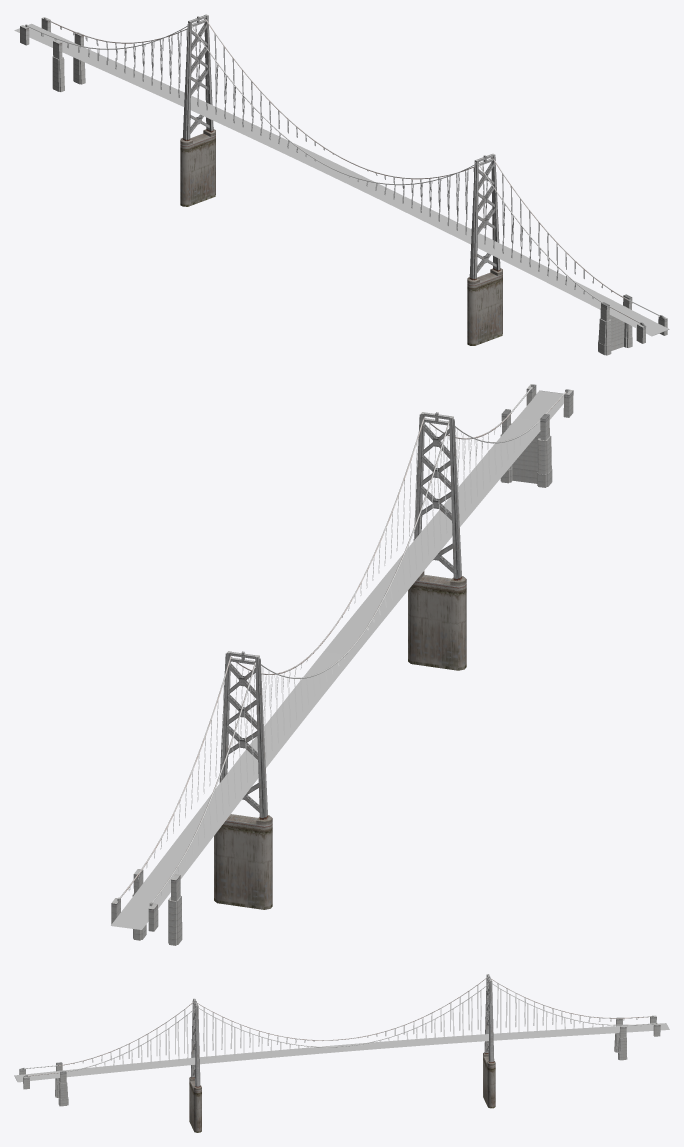
The model's file is suspension_bridge.dae.
3 renders of one model, top to bottom at view 1: azimuth 30°, elevation 25°; view 2: azimuth 150°, elevation 25°; view 3: azimuth 270°, elevation 25°, orthographic. The views are drawn at different scales.
Parts seen in each view (by area): view 1: suspension_bridge; view 2: suspension_bridge; view 3: suspension_bridge.
Part boxes in pixels (left/top/right/bottom): suspension_bridge: left=14, top=14, right=669, bottom=355; suspension_bridge: left=111, top=384, right=573, bottom=945; suspension_bridge: left=14, top=974, right=669, bottom=1132.
Bounding box in the file's own units: 179 × 796 × 168.
